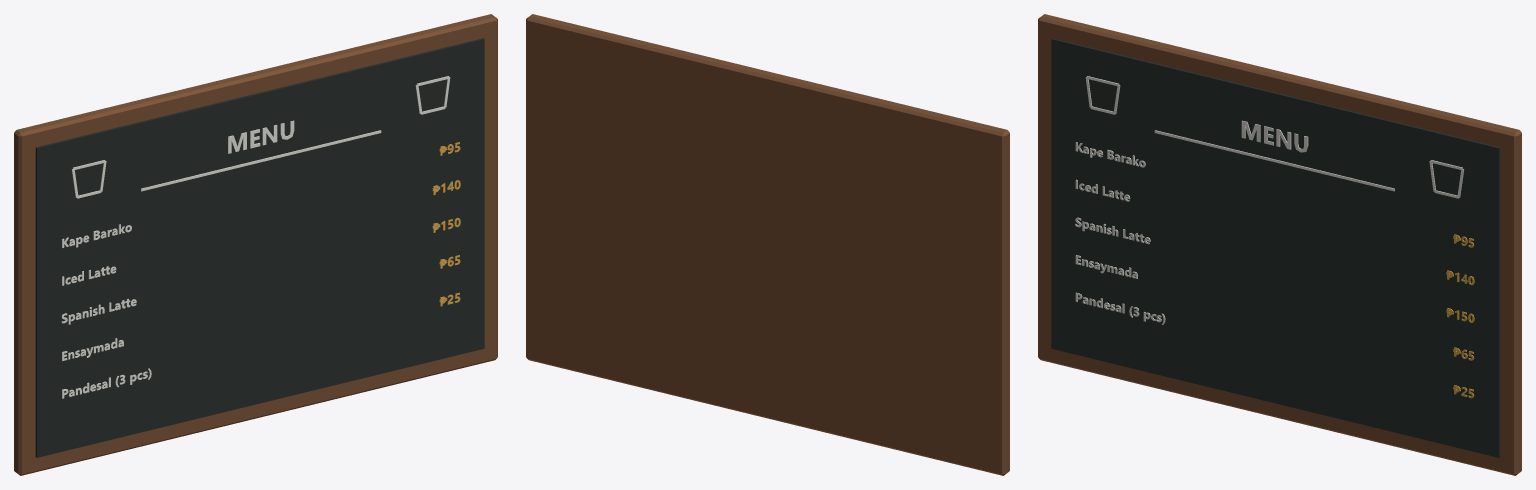
Rendered from menu_board.glb.
3 renders of one model, left to right at view 1: azimuth 30°, elevation 25°; view 2: azimuth 150°, elevation 25°; view 3: azimuth 330°, elevation 25°, orthographic.
Parts seen in each view (by area): view 1: MenuBoard; view 2: MenuBoard; view 3: MenuBoard.
Boxes of the visible parts, x1,y1,x2,y2 form: MenuBoard: [14, 14, 497, 475]; MenuBoard: [526, 14, 1009, 475]; MenuBoard: [1038, 14, 1521, 475].
Bounding box in the file's own units: 1.2 × 0.82 × 0.038.
